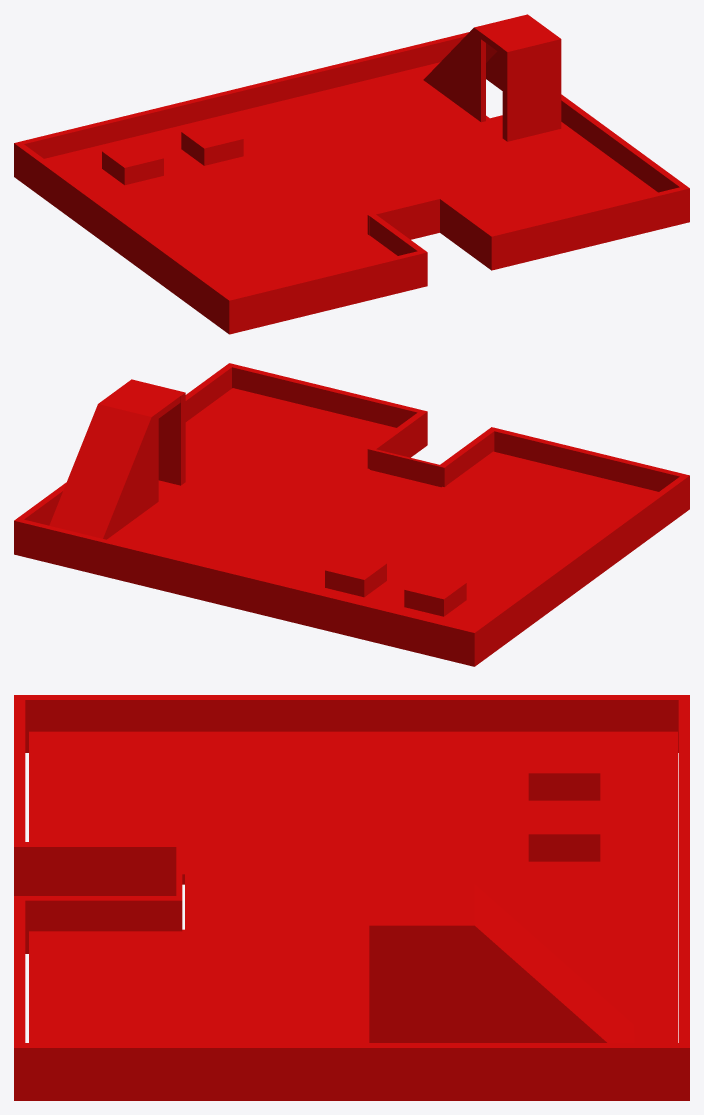
Rendered from SM_Bld_HighRise_Medium_01_Interior_Roof_01_Collision.fbx.
3 renders of one model, top to bottom at view 1: azimuth 30°, elevation 25°; view 2: azimuth 150°, elevation 25°; view 3: azimuth 270°, elevation 25°, orthographic. The views are drawn at different scales.
Visible parts, largest first — view 1: SM_Bld_HighRise_Medium_01_Interior_Roof_01_Collision; view 2: SM_Bld_HighRise_Medium_01_Interior_Roof_01_Collision; view 3: SM_Bld_HighRise_Medium_01_Interior_Roof_01_Collision.
Boxes of the visible parts, x1,y1,x2,y2 form: SM_Bld_HighRise_Medium_01_Interior_Roof_01_Collision: (14, 14, 689, 334); SM_Bld_HighRise_Medium_01_Interior_Roof_01_Collision: (14, 363, 689, 666); SM_Bld_HighRise_Medium_01_Interior_Roof_01_Collision: (14, 695, 689, 1100).
Size of the model in its own units: 1338 by 289 by 1083.
